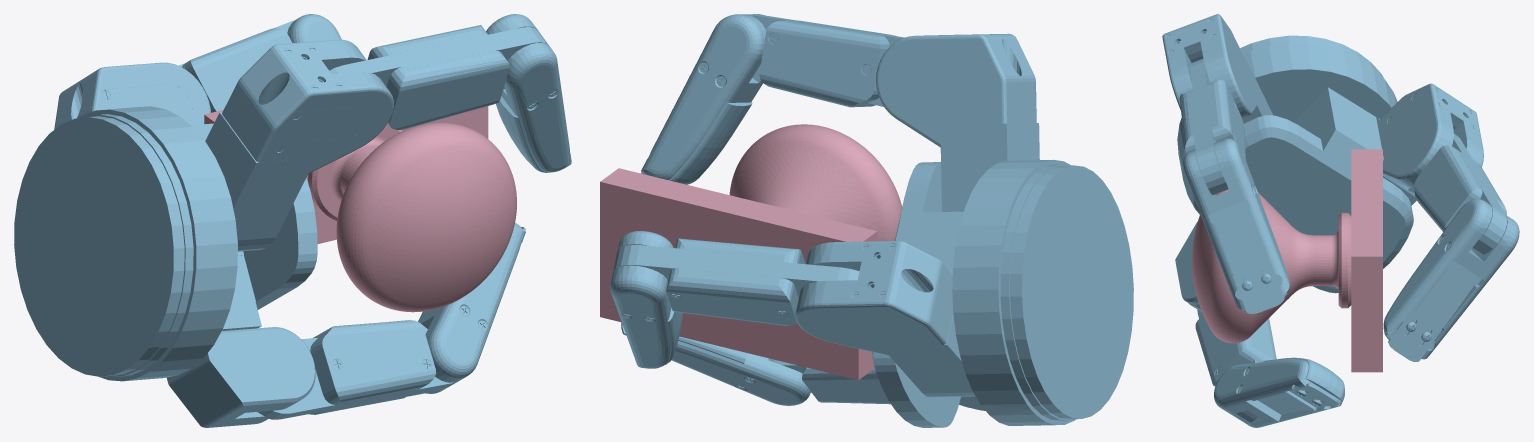
3 views of the same model, side by side, from view 1: azimuth 30°, elevation 25°; view 2: azimuth 150°, elevation 25°; view 3: azimuth 270°, elevation 25° (orthographic). The views are drawn at different scales.
Parts seen in each view (by area): view 1: world; view 2: world; view 3: world.
Boxes of the visible parts, left/top/right/bottom form: world: left=14, top=14, right=571, bottom=427; world: left=600, top=14, right=1133, bottom=427; world: left=1162, top=14, right=1519, bottom=427.
Bounding box in the file's own units: 0.1809 × 0.1465 × 0.1403.
